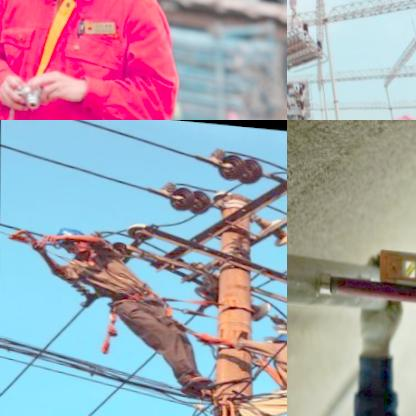helmet: (49, 222, 95, 255), (272, 320, 287, 359)
